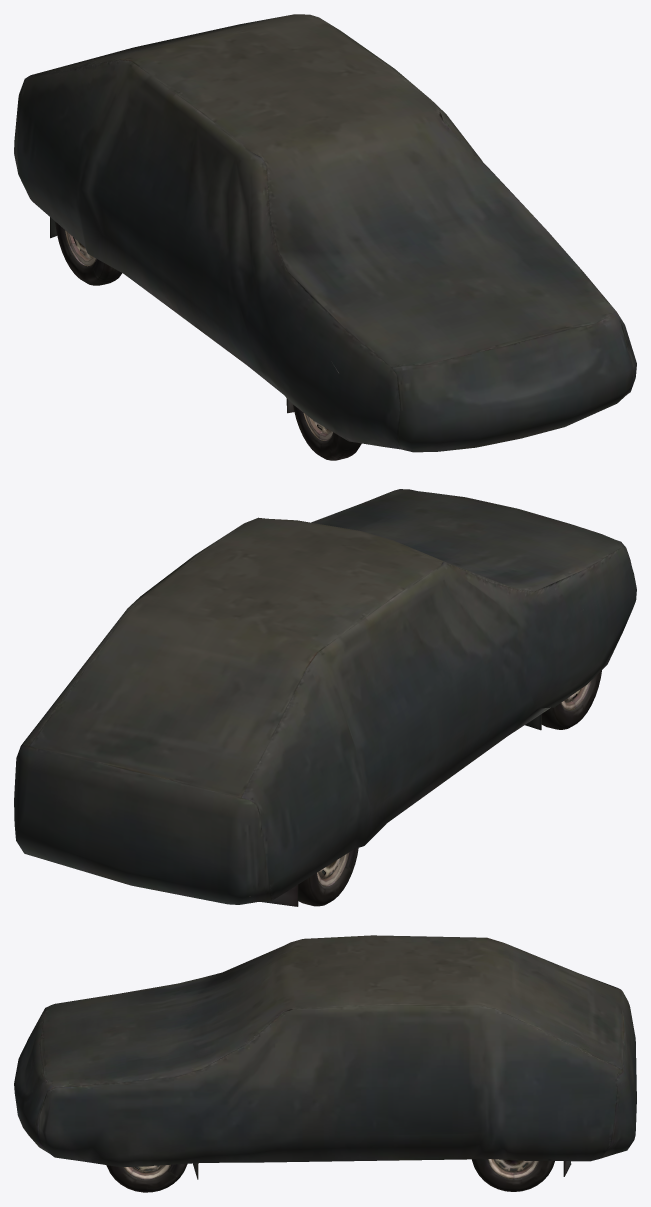
The model's file is covered_car.8911fda5.glb.
3 renders of one model, top to bottom at view 1: azimuth 30°, elevation 25°; view 2: azimuth 150°, elevation 25°; view 3: azimuth 270°, elevation 25°, orthographic. The views are drawn at different scales.
Visible parts, largest first — view 1: covered_car, covered_car_wheel_03, covered_car_wheel_02; view 2: covered_car, covered_car_wheel_03, covered_car_wheel_02; view 3: covered_car, covered_car_wheel_04, covered_car_wheel_01.
Part boxes in pixels (bbox=[...]): covered_car: bbox=[14, 14, 636, 452]; covered_car_wheel_03: bbox=[55, 222, 121, 285]; covered_car_wheel_02: bbox=[293, 405, 361, 460]; covered_car: bbox=[14, 489, 636, 906]; covered_car_wheel_03: bbox=[298, 848, 358, 906]; covered_car_wheel_02: bbox=[541, 670, 601, 729]; covered_car: bbox=[14, 935, 636, 1179]; covered_car_wheel_04: bbox=[472, 1159, 554, 1191]; covered_car_wheel_01: bbox=[106, 1163, 187, 1192].
Bounding box in the file's own units: 1.79 × 1.41 × 4.38.
Materials: 1 (1 with a texture image).
